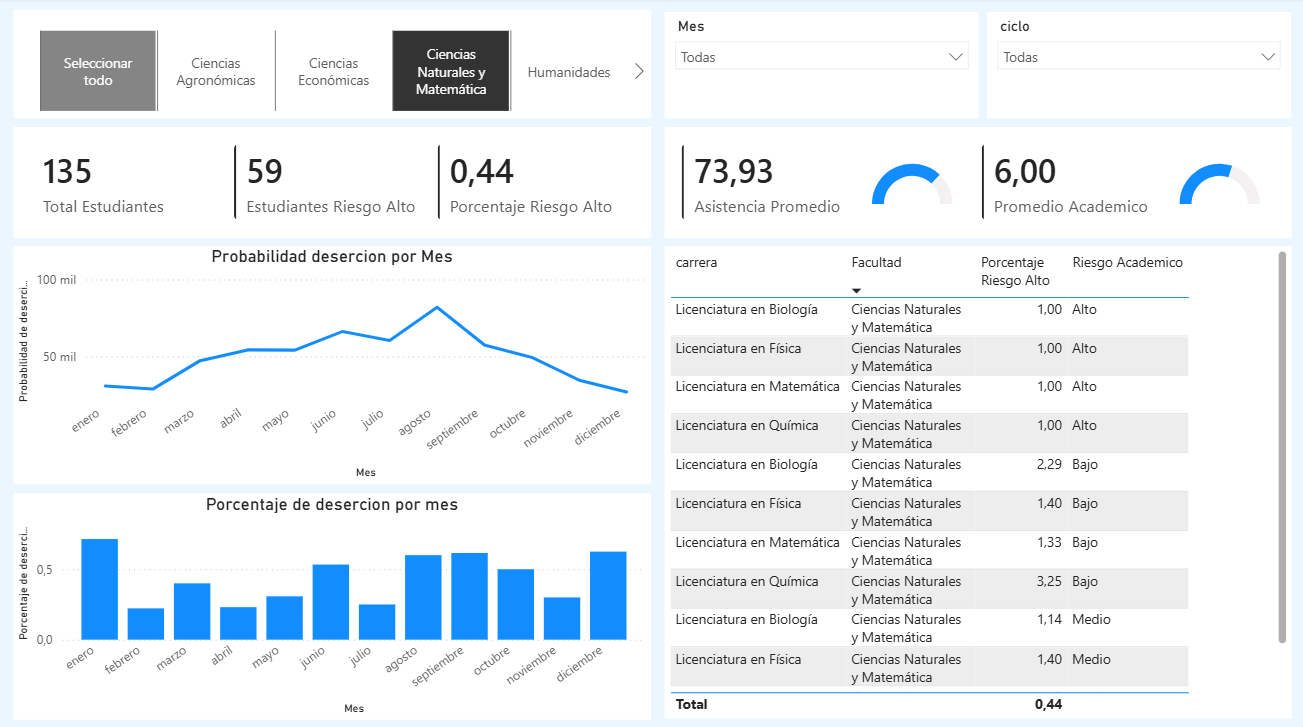

Layout of this report page (visuals, bound fields, positions):
{"tool":"powerbi","page":{"name":"Página 1","canvas":[1280,720],"ordinal":0},"visuals":[{"type":"cardVisual","fields":{"Data":["dataset_limpio_Proyecto_EdTech_Learning_Analytics (2).Total Estudiantes","dataset_limpio_Proyecto_EdTech_Learning_Analytics (2).Estudiantes Riesgo Alto","dataset_limpio_Proyecto_EdTech_Learning_Analytics (2).Porcentaje Riesgo Alto"]},"box":[16.2,127.5,623.8,108.8],"z":0},{"type":"lineChart","title":"Probabilidad desercion por Mes","fields":{"Category":["dataset_limpio_Proyecto_EdTech_Learning_Analytics (2).fecha_nacimiento.Variación.Jerarquía de fechas.Mes"],"Y":["Sum(dataset_limpio_Proyecto_EdTech_Learning_Analytics (2).probabilidad_desercion)"]},"box":[16.2,243.8,623.8,232.5],"z":1000},{"type":"columnChart","title":"Porcentaje de desercion por mes","fields":{"Category":["dataset_limpio_Proyecto_EdTech_Learning_Analytics (2).fecha_nacimiento.Variación.Jerarquía de fechas.Mes"],"Y":["dataset_limpio_Proyecto_EdTech_Learning_Analytics (2).Porcentaje Riesgo Alto"]},"box":[16.2,485,623.8,221.2],"z":2000},{"type":"tableEx","fields":{"Values":["dataset_limpio_Proyecto_EdTech_Learning_Analytics (2).carrera","dataset_limpio_Proyecto_EdTech_Learning_Analytics (2).facultad","dataset_limpio_Proyecto_EdTech_Learning_Analytics (2).Porcentaje Riesgo Alto","dataset_limpio_Proyecto_EdTech_Learning_Analytics (2).riesgo_academico"]},"box":[652.5,243.8,613.8,462.5],"z":3000},{"type":"cardVisual","fields":{"Data":["dataset_limpio_Proyecto_EdTech_Learning_Analytics (2).Asistencia Promedio","dataset_limpio_Proyecto_EdTech_Learning_Analytics (2).Promedio Academico"]},"box":[652.5,127.5,613.8,108.8],"z":4000},{"type":"gauge","fields":{"Y":["dataset_limpio_Proyecto_EdTech_Learning_Analytics (2).Asistencia Promedio"],"MinValue":["dataset_limpio_Proyecto_EdTech_Learning_Analytics (2).Minimo Asistencia"],"MaxValue":["dataset_limpio_Proyecto_EdTech_Learning_Analytics (2).Maximo Asistencia"]},"box":[851.2,143.8,88.8,77.5],"z":5000},{"type":"gauge","fields":{"Y":["dataset_limpio_Proyecto_EdTech_Learning_Analytics (2).Promedio Academico"],"MaxValue":["dataset_limpio_Proyecto_EdTech_Learning_Analytics (2).Maximo Academico"],"MinValue":["dataset_limpio_Proyecto_EdTech_Learning_Analytics (2).Minimo Academico"]},"box":[1152.5,143.8,88.8,77.5],"z":6000},{"type":"slicer","fields":{"Values":["dataset_limpio_Proyecto_EdTech_Learning_Analytics (2).facultad"]},"box":[16.2,12.5,623.8,106.2],"z":7000},{"type":"slicer","fields":{"Values":["dataset_limpio_Proyecto_EdTech_Learning_Analytics (2).ciclo"]},"box":[968.8,15,297.5,103.8],"z":8000},{"type":"slicer","fields":{"Values":["dataset_limpio_Proyecto_EdTech_Learning_Analytics (2).fecha_nacimiento.Variación.Jerarquía de fechas.Mes"]},"box":[652.5,15,307.5,103.8],"z":9000}]}

Visuals, with their boxes in screenshot pixels (x1, y1, x2, y2), scaled from the page's 1280x720 canvas onto the 1303x727 screenshot:
cardVisual - dataset_limpio_Proyecto_EdTech_Learning_Analytics (2).Total Estudiantes x dataset_limpio_Proyecto_EdTech_Learning_Analytics (2).Estudiantes Riesgo Alto: x1=16 y1=129 x2=652 y2=239
"Probabilidad desercion por Mes" lineChart: x1=16 y1=246 x2=652 y2=481
"Porcentaje de desercion por mes" columnChart: x1=16 y1=490 x2=652 y2=713
tableEx - dataset_limpio_Proyecto_EdTech_Learning_Analytics (2).carrera x dataset_limpio_Proyecto_EdTech_Learning_Analytics (2).facultad: x1=664 y1=246 x2=1289 y2=713
cardVisual - dataset_limpio_Proyecto_EdTech_Learning_Analytics (2).Asistencia Promedio x dataset_limpio_Proyecto_EdTech_Learning_Analytics (2).Promedio Academico: x1=664 y1=129 x2=1289 y2=239
gauge - dataset_limpio_Proyecto_EdTech_Learning_Analytics (2).Asistencia Promedio x dataset_limpio_Proyecto_EdTech_Learning_Analytics (2).Minimo Asistencia: x1=866 y1=145 x2=957 y2=223
gauge - dataset_limpio_Proyecto_EdTech_Learning_Analytics (2).Promedio Academico x dataset_limpio_Proyecto_EdTech_Learning_Analytics (2).Maximo Academico: x1=1173 y1=145 x2=1264 y2=223
slicer - dataset_limpio_Proyecto_EdTech_Learning_Analytics (2).facultad: x1=16 y1=13 x2=652 y2=120
slicer - dataset_limpio_Proyecto_EdTech_Learning_Analytics (2).ciclo: x1=986 y1=15 x2=1289 y2=120
slicer - dataset_limpio_Proyecto_EdTech_Learning_Analytics (2).fecha_nacimiento.Variación.Jerarquía de fechas.Mes: x1=664 y1=15 x2=977 y2=120
